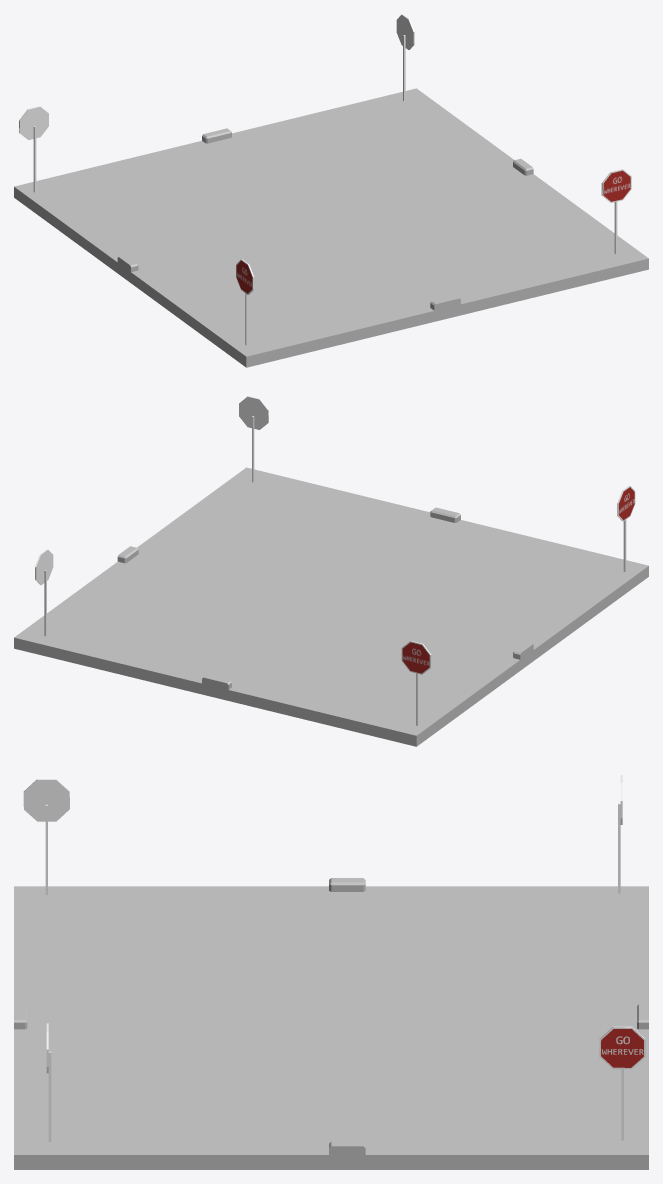
Rendered from road_intersection.fbx.
3 views of the same model, one above another, from view 1: azimuth 30°, elevation 25°; view 2: azimuth 150°, elevation 25°; view 3: azimuth 270°, elevation 25° (orthographic). The views are drawn at different scales.
Visible parts, largest first — view 1: Road_intersection; view 2: Road_intersection; view 3: Road_intersection.
Part boxes in pixels (x1=…): Road_intersection: x1=14, y1=14, x2=648, y2=367; Road_intersection: x1=14, y1=396, x2=648, y2=746; Road_intersection: x1=14, y1=775, x2=648, y2=1169.
Bounding box in the file's own units: 202 × 47.77 × 200.
